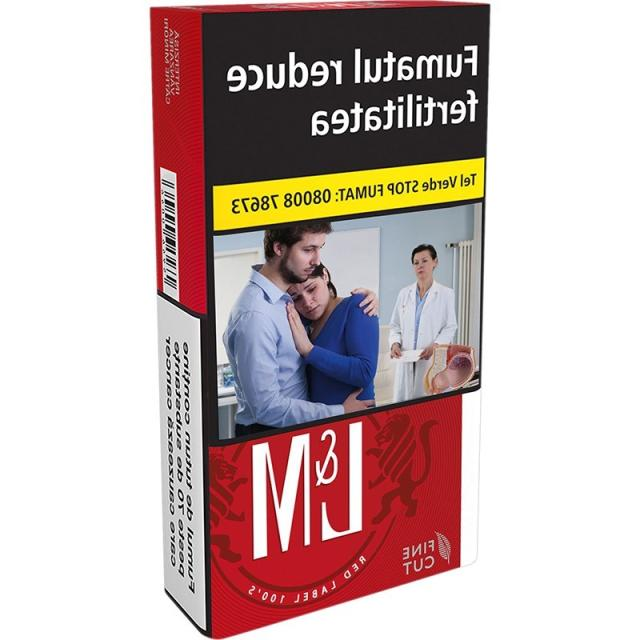lm: (150, 2, 494, 640)
